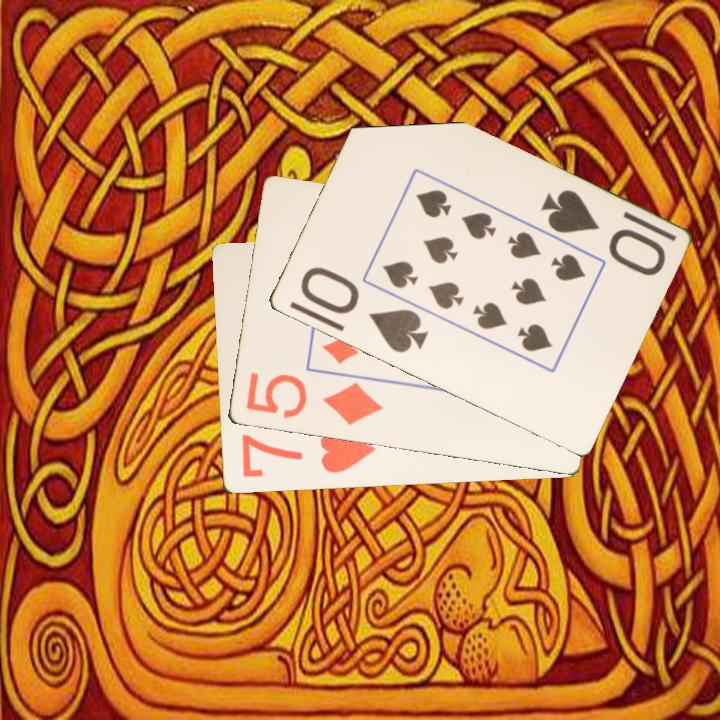10s: (296, 263, 431, 357), (536, 185, 668, 279)
5d: (242, 369, 386, 429)
7h: (237, 427, 378, 481)
